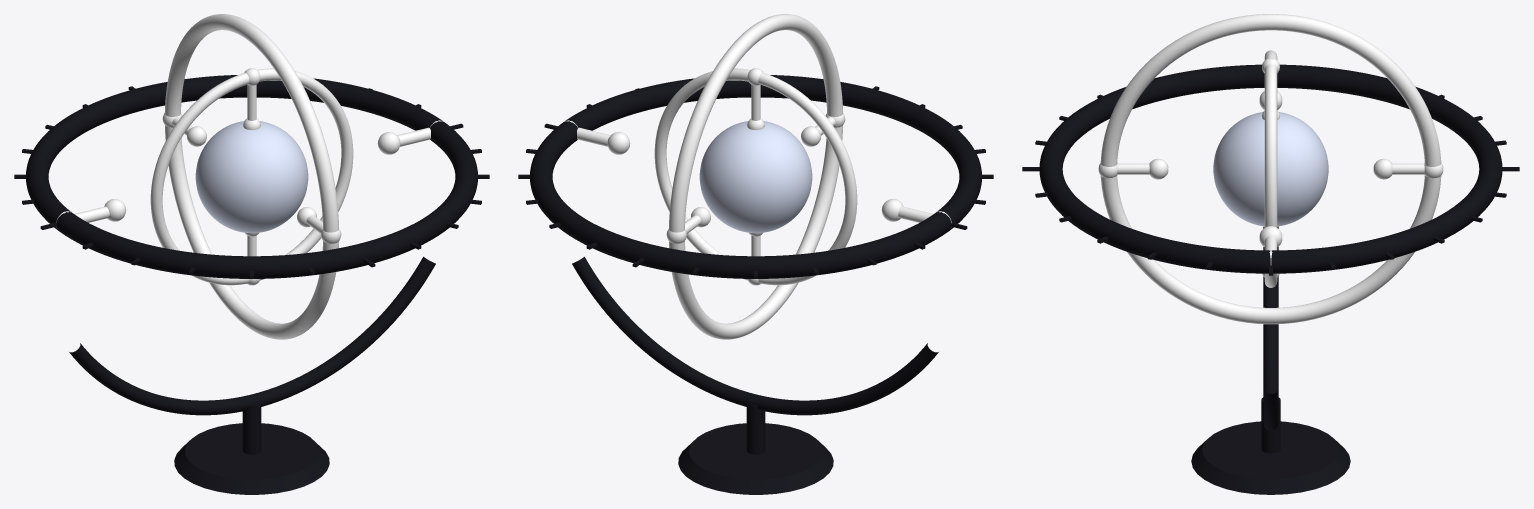
File: stack.glb
3 views of the same model, side by side, from view 1: azimuth 30°, elevation 25°; view 2: azimuth 150°, elevation 25°; view 3: azimuth 270°, elevation 25° (orthographic). The views are drawn at different scales.
Visible parts, largest first — view 1: dark_outer, dark_mount, chrome_middle, glass_core, chrome_inner, chrome_pivots; view 2: dark_outer, dark_mount, chrome_middle, glass_core, chrome_inner, chrome_pivots; view 3: dark_outer, chrome_middle, dark_mount, glass_core, chrome_pivots, chrome_inner.
Boxes of the visible parts, <box> form: dark_outer: <box>14,75,489,278</box>; dark_mount: <box>69,256,435,494</box>; chrome_middle: <box>165,14,338,339</box>; glass_core: <box>195,121,308,233</box>; chrome_inner: <box>150,68,353,285</box>; chrome_pivots: <box>56,68,443,285</box>; dark_outer: <box>518,75,993,278</box>; dark_mount: <box>572,256,938,494</box>; chrome_middle: <box>669,14,842,339</box>; glass_core: <box>699,121,812,233</box>; chrome_inner: <box>654,68,857,285</box>; chrome_pivots: <box>564,68,951,285</box>; dark_outer: <box>1022,64,1519,275</box>; chrome_middle: <box>1100,14,1441,324</box>; dark_mount: <box>1191,227,1350,494</box>; glass_core: <box>1213,112,1328,226</box>; chrome_pivots: <box>1098,58,1443,277</box>; chrome_inner: <box>1264,50,1277,287</box>.
Size of the model in its own units: 3.62 by 3.58 by 3.62.
